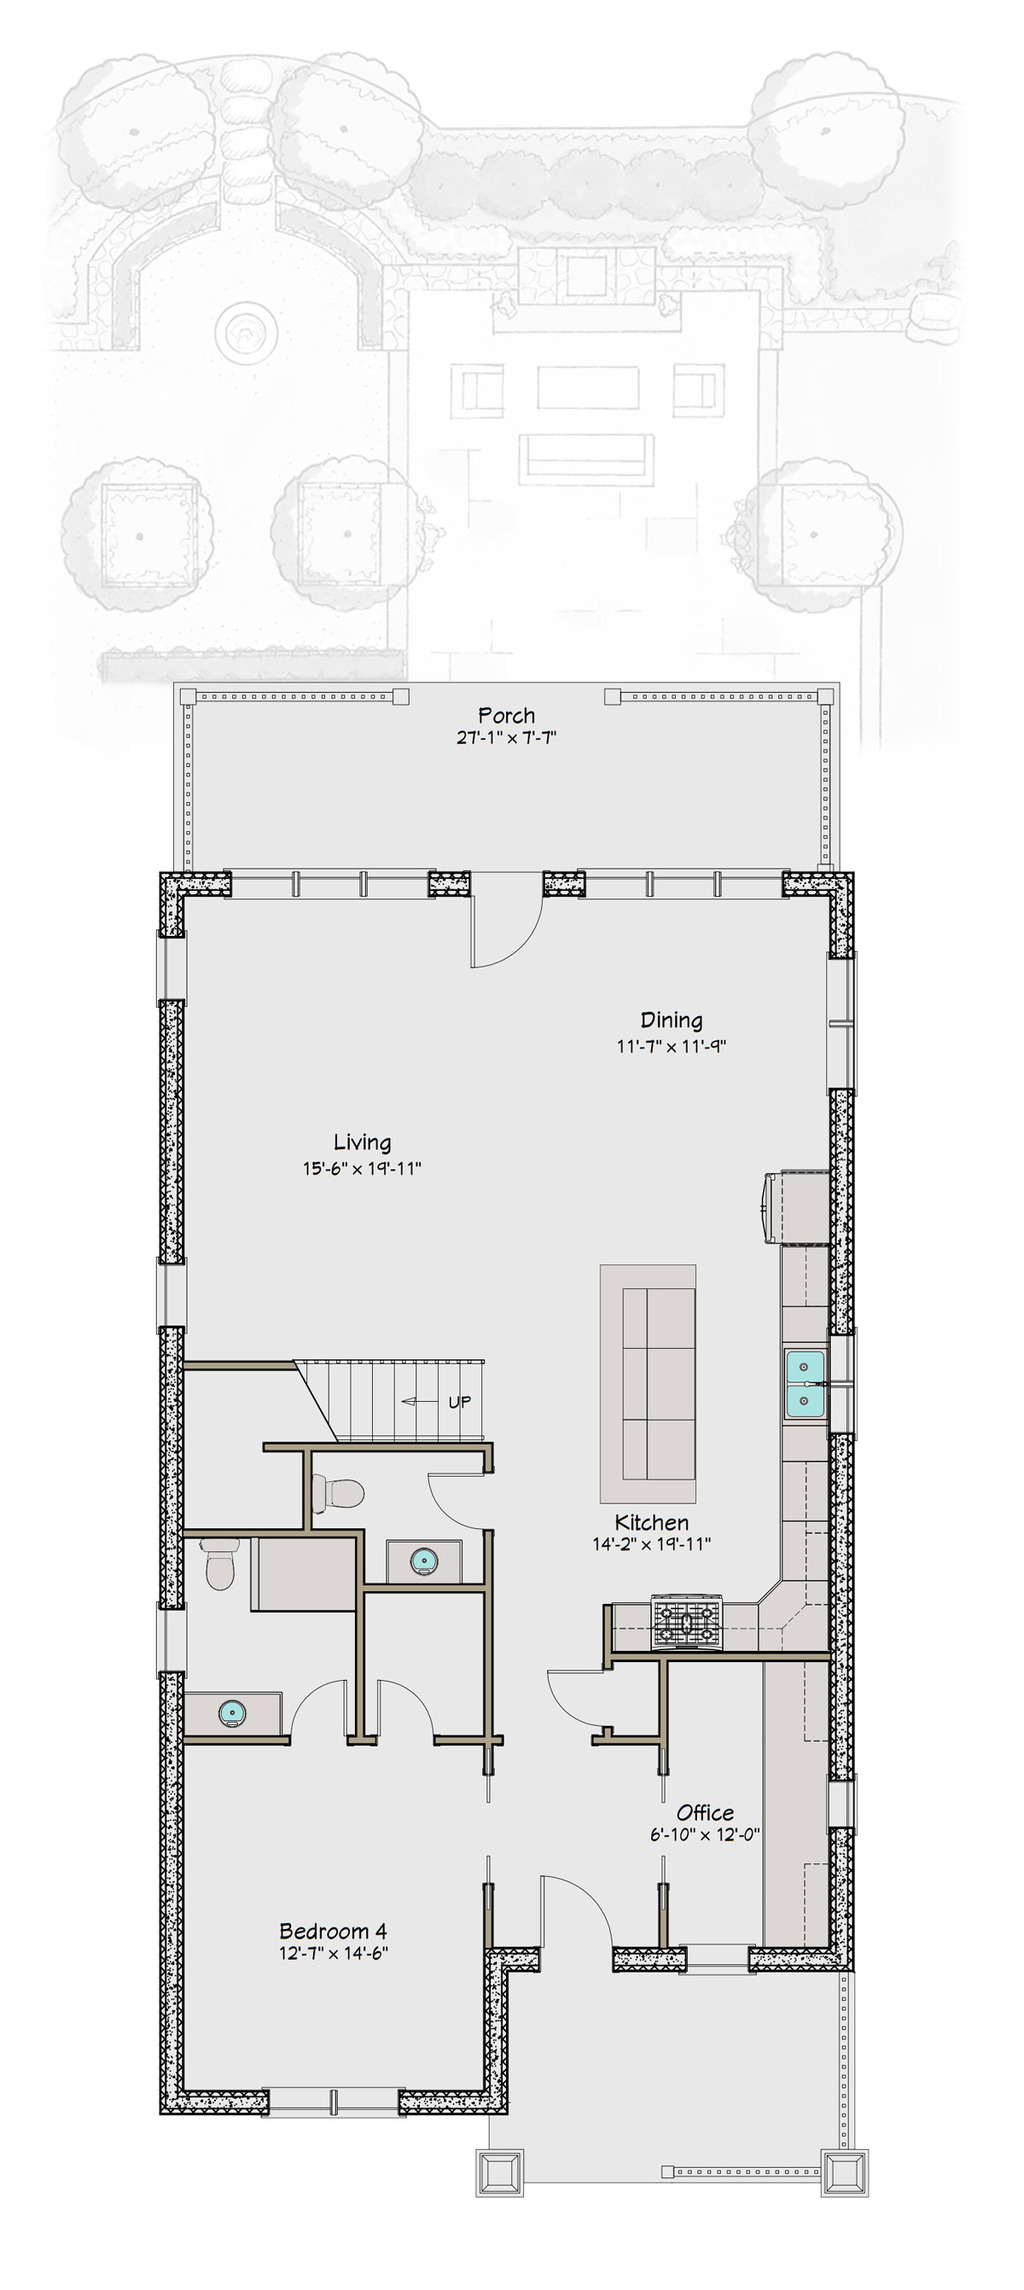door: (448, 857, 619, 986), (391, 1458, 505, 1550), (532, 1853, 619, 1969), (367, 1668, 434, 1764), (538, 1658, 614, 1736), (278, 1671, 352, 1739)
large_sink: (299, 1446, 367, 1539), (184, 1525, 248, 1614)
small_sink: (181, 1675, 288, 1747)
stairs: (270, 1347, 505, 1446)
twin_sink: (765, 1307, 838, 1450)
